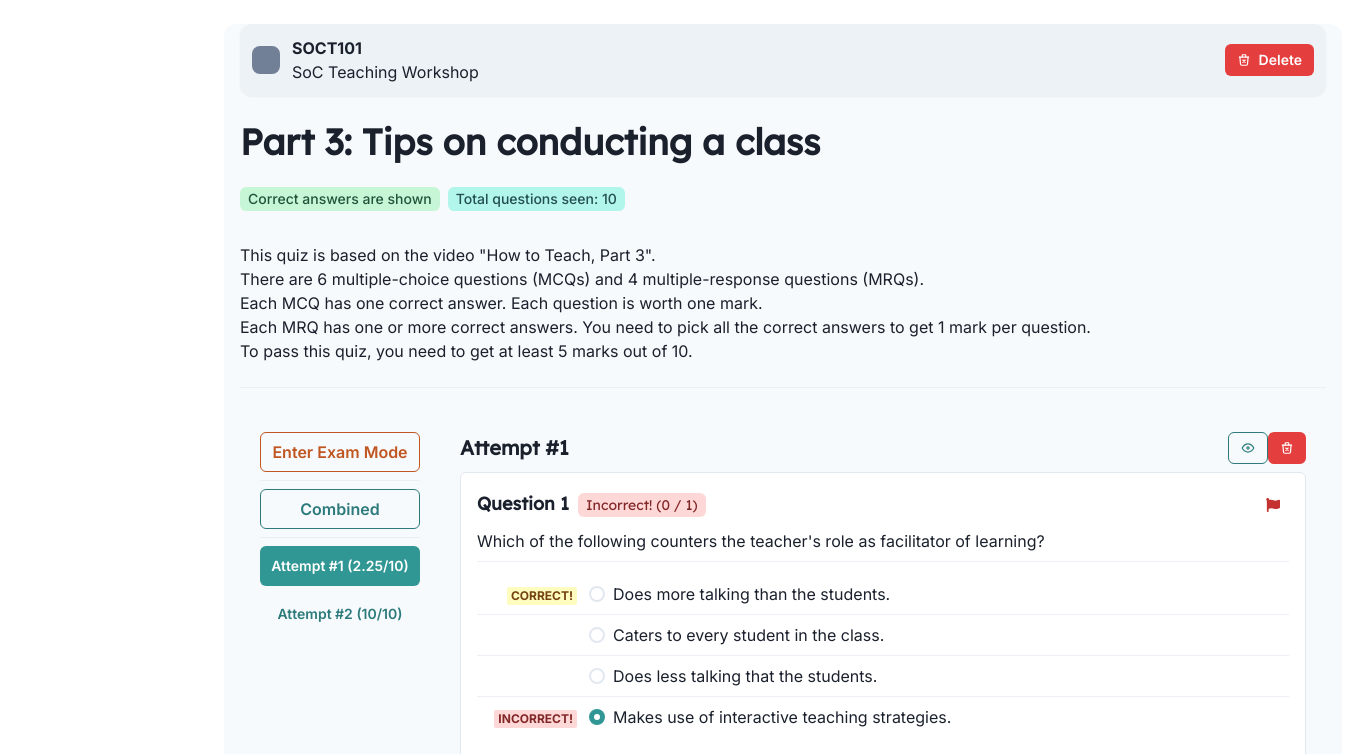
Quiz page editing › should show a warning before deleting the quiz
Click the button with test id "delete-quiz" at (1269, 60), box left=1225, top=44, right=1314, bottom=76
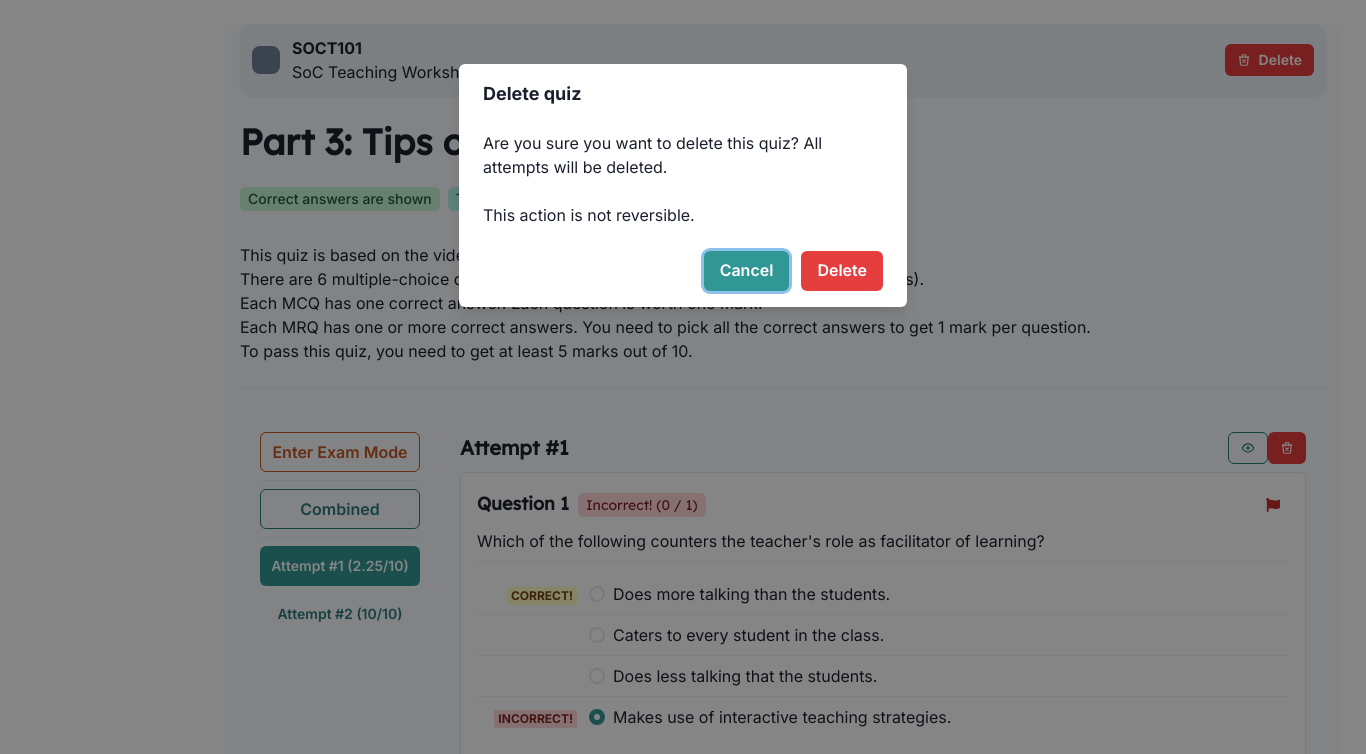
Expected: the button with test id "confirm-delete-quiz" is shown, left=801, top=251, right=883, bottom=291
